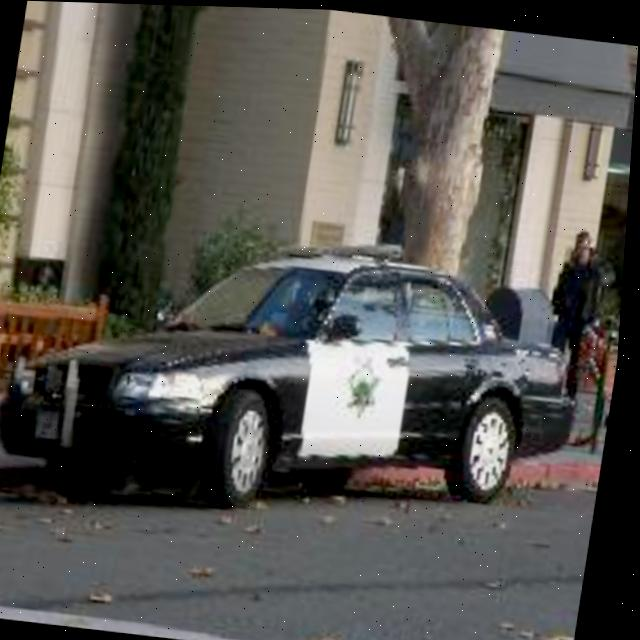emergency: (0, 209, 595, 507)
